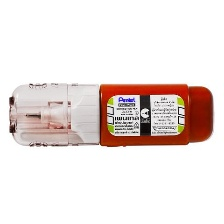correction_fluid: (5, 80, 217, 149)
